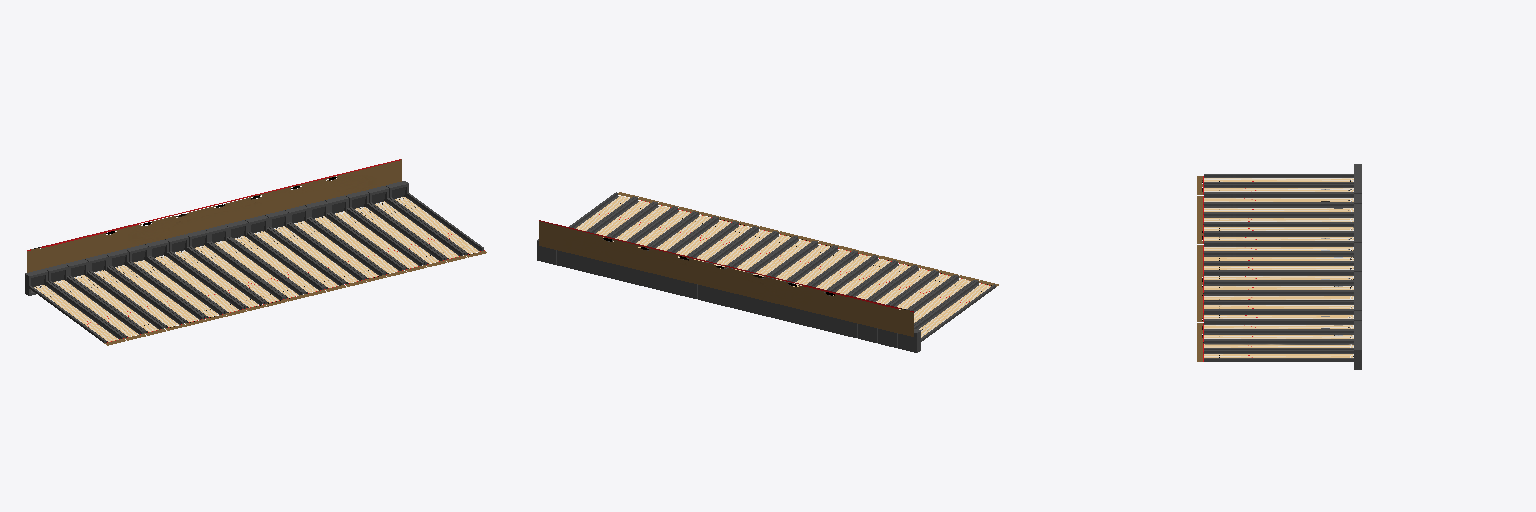
3 views of the same model, side by side, from view 1: azimuth 30°, elevation 25°; view 2: azimuth 150°, elevation 25°; view 3: azimuth 270°, elevation 25° (orthographic).
Visible parts, largest first — view 1: Plane.000_Plane.003; view 2: Plane.000_Plane.003; view 3: Plane.000_Plane.003.
Part boxes in pixels (x1,y1,x2,y2): Plane.000_Plane.003: (25, 159, 486, 345); Plane.000_Plane.003: (537, 192, 998, 352); Plane.000_Plane.003: (1197, 164, 1361, 369).
Size of the model in its own units: 345 by 36.2 by 131.
1 materials, 1 textured.